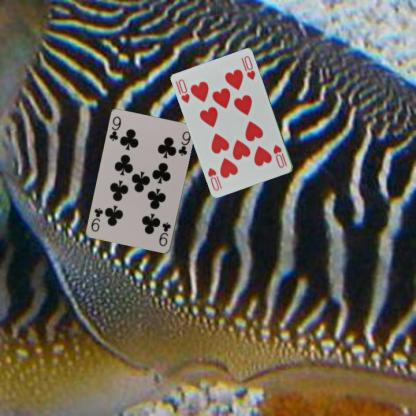10h: (271, 142, 288, 169), (176, 76, 191, 105)
9c: (157, 219, 172, 248), (107, 114, 122, 142)
